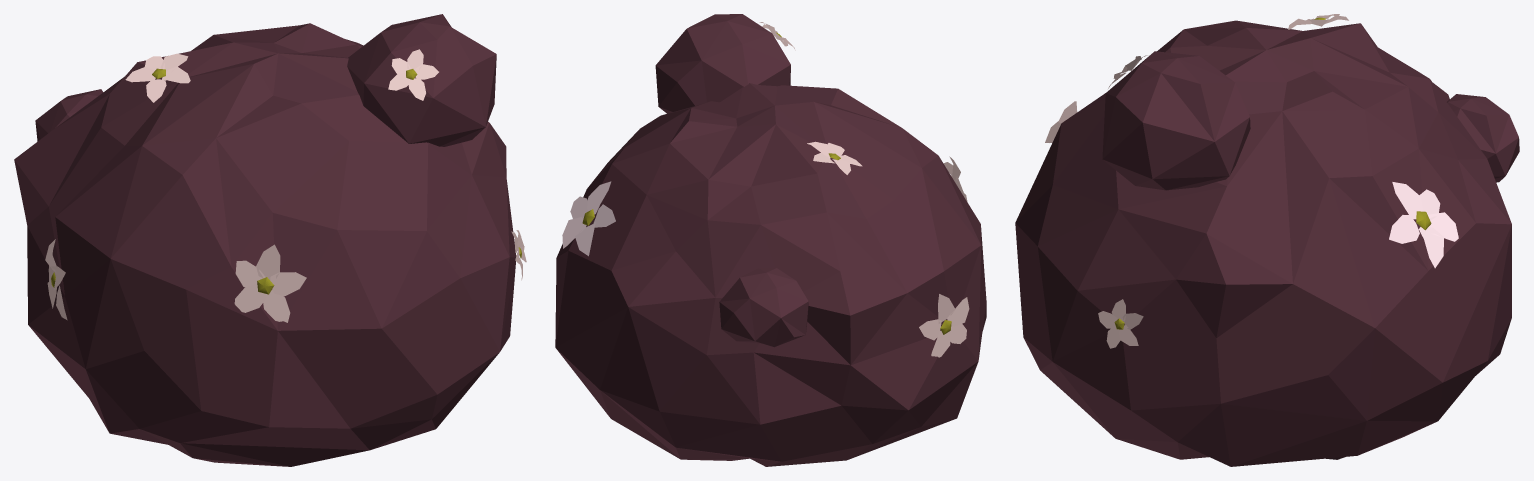
Rendered from Pot_3a_plant.fbx.
The picture shows the model from 3 angles, left to right: view 1: azimuth 30°, elevation 25°; view 2: azimuth 150°, elevation 25°; view 3: azimuth 270°, elevation 25°; orthographic projection. The views are drawn at different scales.
Visible parts, largest first — view 1: Sphere; view 2: Sphere; view 3: Sphere.
Part boxes in pixels (left/top/right/bottom): Sphere: left=14, top=14, right=526, bottom=466; Sphere: left=555, top=14, right=986, bottom=466; Sphere: left=1015, top=14, right=1519, bottom=466.
Size of the model in its own units: 86.44 by 78.71 by 86.88.
